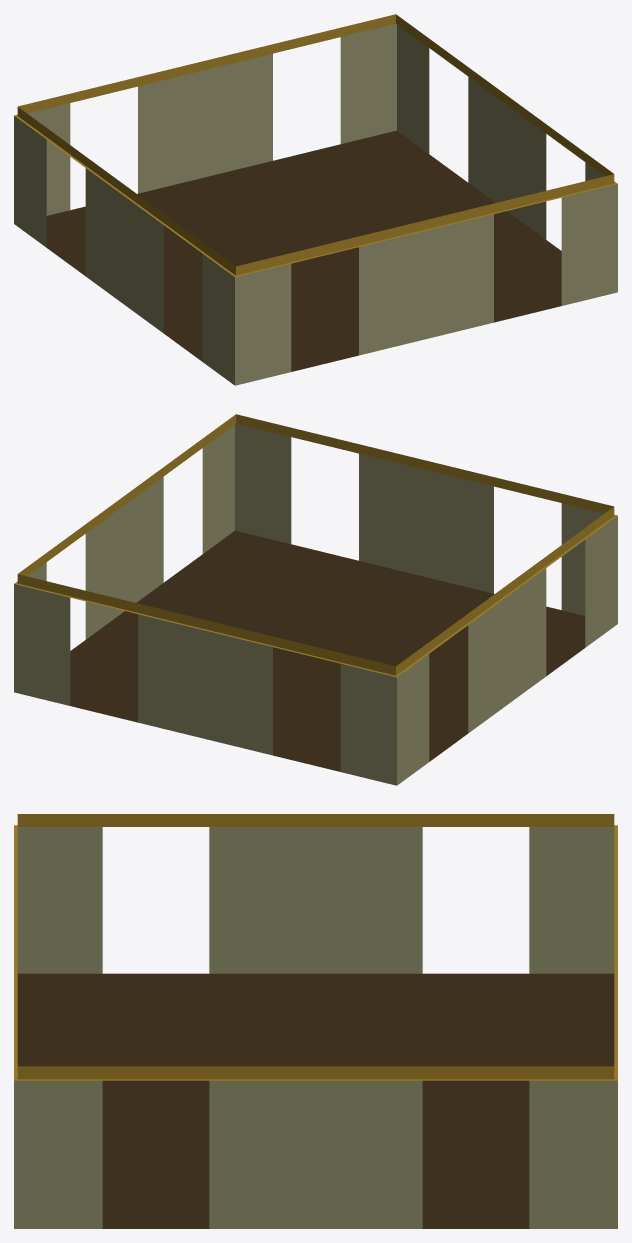
The model's file is 6x6Room.fbx.
3 views of the same model, one above another, from view 1: azimuth 30°, elevation 25°; view 2: azimuth 150°, elevation 25°; view 3: azimuth 270°, elevation 25° (orthographic). The views are drawn at different scales.
Parts seen in each view (by area): view 1: 6x6Room; view 2: 6x6Room; view 3: 6x6Room.
Boxes of the visible parts, bbox=[...] form: 6x6Room: bbox=[14, 14, 617, 385]; 6x6Room: bbox=[14, 414, 617, 785]; 6x6Room: bbox=[14, 814, 617, 1228].
Bounding box in the file's own units: 1700 × 500 × 1700.
